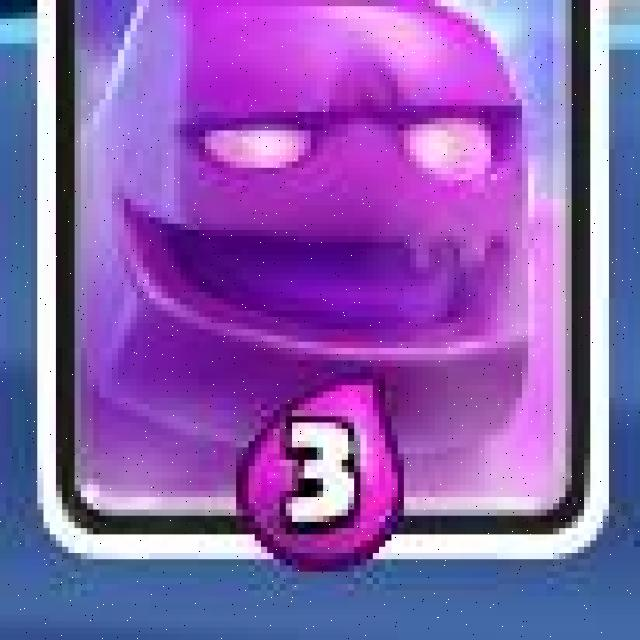Elixir_Golem: (31, 0, 605, 564)
